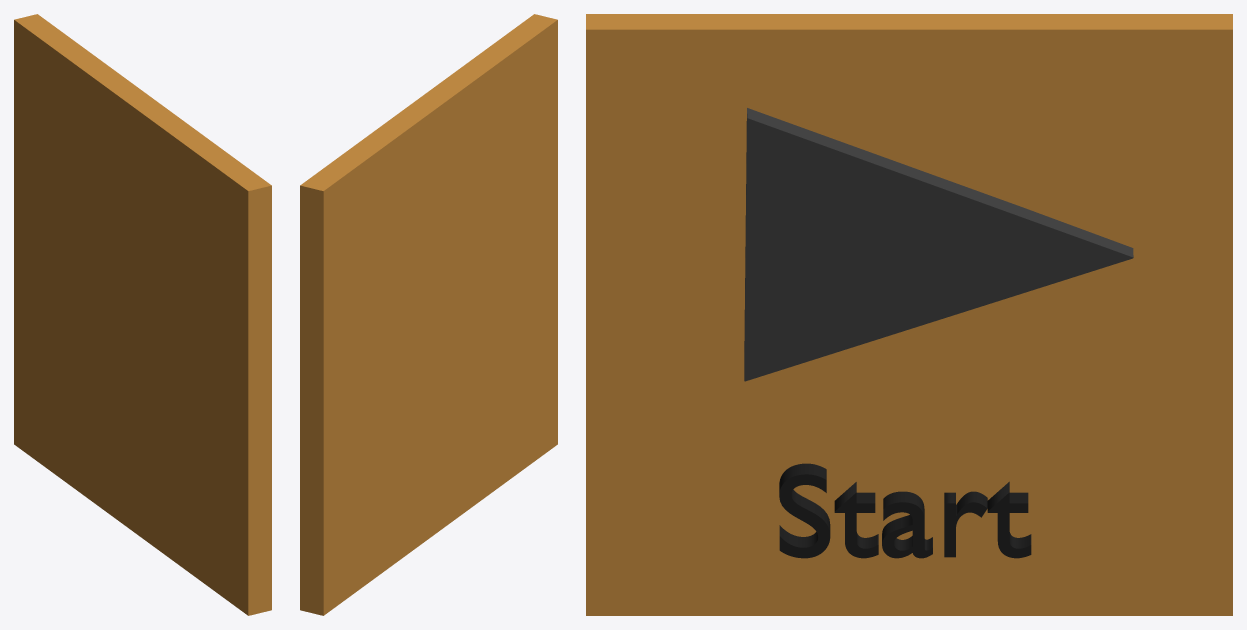
Rendered from StartButton.fbx.
The picture shows the model from 3 angles, left to right: view 1: azimuth 30°, elevation 25°; view 2: azimuth 150°, elevation 25°; view 3: azimuth 270°, elevation 25°; orthographic projection. The views are drawn at different scales.
Visible parts, largest first — view 1: Setting Button.001; view 2: Setting Button.001; view 3: Setting Button.001, Cube, S.001.
Boxes of the visible parts, x1,y1,x2,y2 form: Setting Button.001: (14, 14, 271, 615); Setting Button.001: (300, 14, 557, 615); Setting Button.001: (586, 14, 1232, 615); Cube: (744, 108, 1133, 381); S.001: (779, 463, 1031, 558).
Bounding box in the file's own units: 26.97 × 262 × 262.
